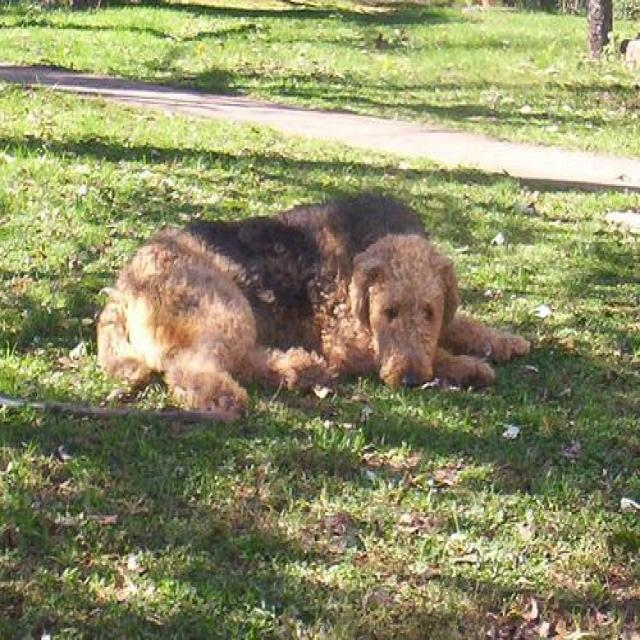airedale: (96, 191, 532, 427)
